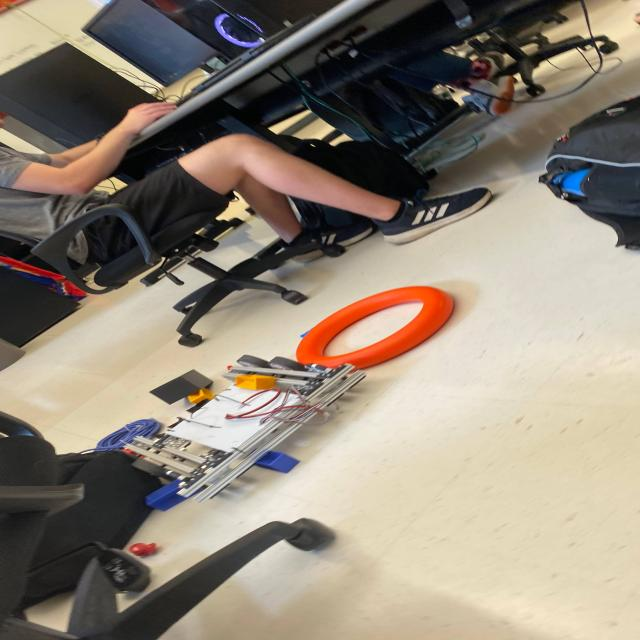blue-specimen: (146, 479, 186, 511), (255, 451, 299, 473)
red-specimen: (113, 449, 139, 458)
yellow-specimen: (235, 374, 275, 390), (187, 388, 214, 405)
